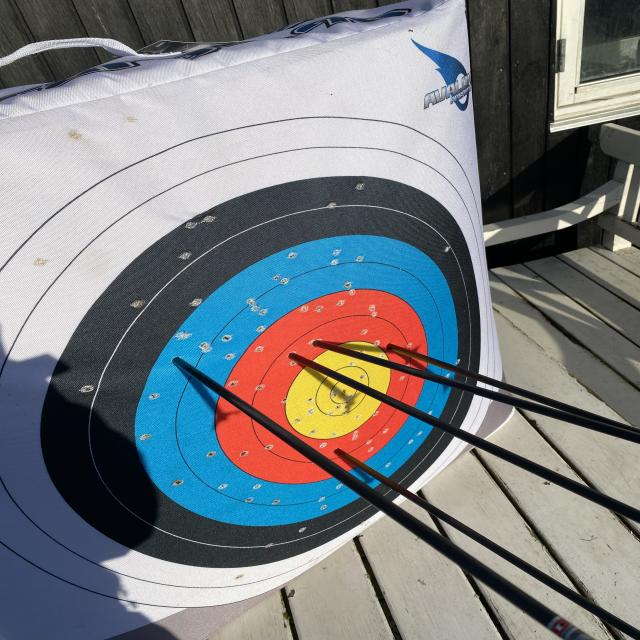Arrow_Blue: (152, 343, 204, 378)
Arrow_Red: (275, 344, 322, 381), (325, 440, 362, 466), (307, 329, 336, 358), (373, 328, 403, 356)
